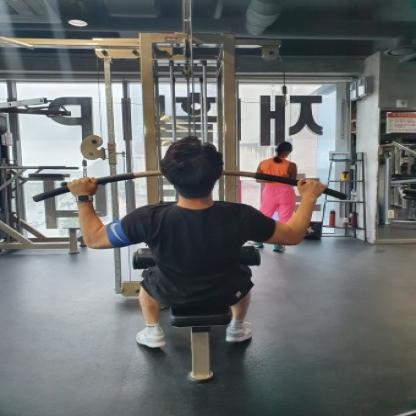Lat Pull Down: (17, 2, 374, 381)
